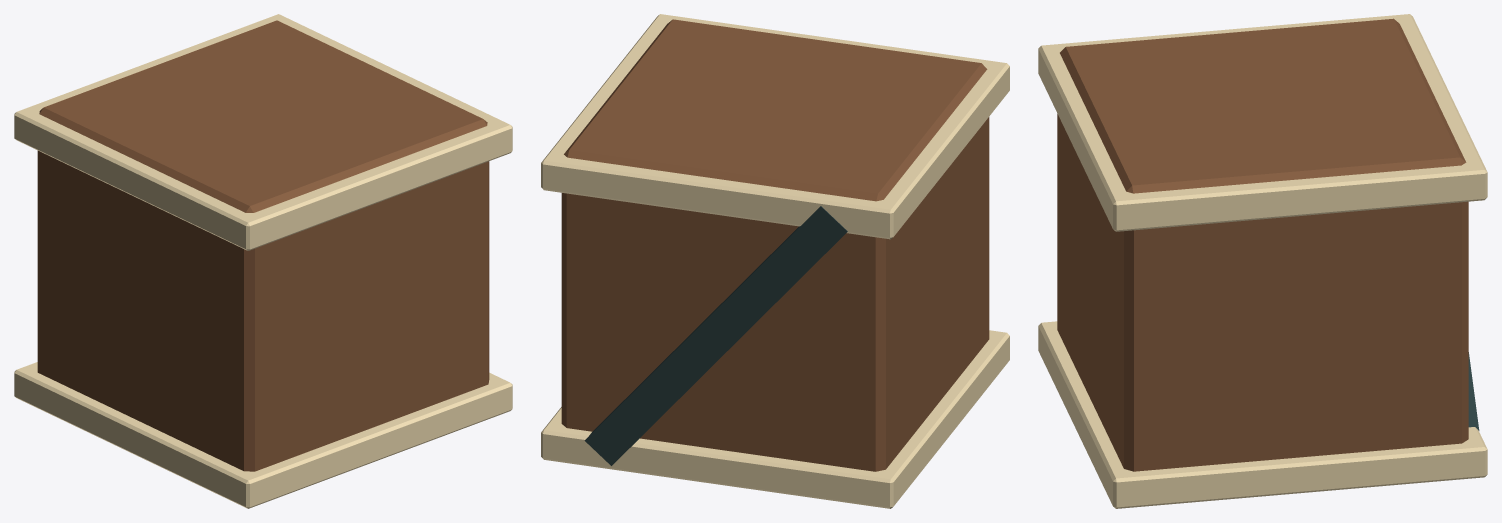
The model's file is supply_crate.fbx.
The picture shows the model from 3 angles, left to right: view 1: azimuth 30°, elevation 25°; view 2: azimuth 150°, elevation 25°; view 3: azimuth 270°, elevation 25°; orthographic projection. The views are drawn at different scales.
Parts seen in each view (by area): view 1: Box, Rim.001, Rim; view 2: Box, Rim.001, Rim, Brace; view 3: Box, Rim.001, Rim.
Part boxes in pixels (left/top/right/bottom): Box: left=37, top=20, right=489, bottom=471; Rim.001: left=14, top=14, right=512, bottom=250; Rim: left=14, top=362, right=512, bottom=508; Box: left=561, top=19, right=989, bottom=471; Rim.001: left=541, top=14, right=1009, bottom=239; Rim: left=541, top=330, right=1009, bottom=508; Brace: left=584, top=206, right=847, bottom=465; Box: left=1057, top=18, right=1468, bottom=471; Rim.001: left=1038, top=14, right=1487, bottom=231; Rim: left=1038, top=321, right=1487, bottom=508.
Bounding box in the file's own units: 294 × 230 × 294.
